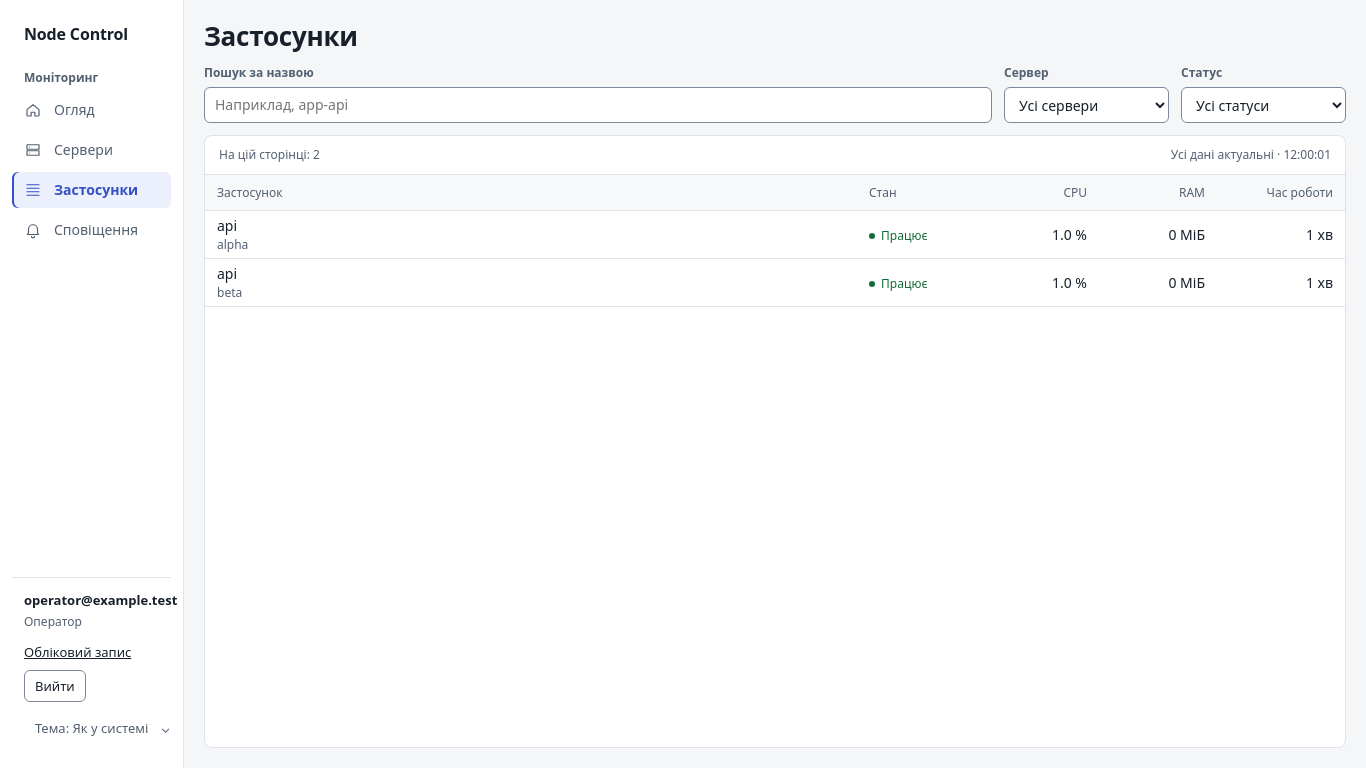
Scenario: workspace: list and details side by side (≥1280 px) › history: no confirmed target → explained, nothing requested; empty history is its own message
The image size is (1366, 768).
Click the button "api alpha Працює 1.0 % 0 МіБ 1 хв" at (233, 244), box [205,211,1345,258]
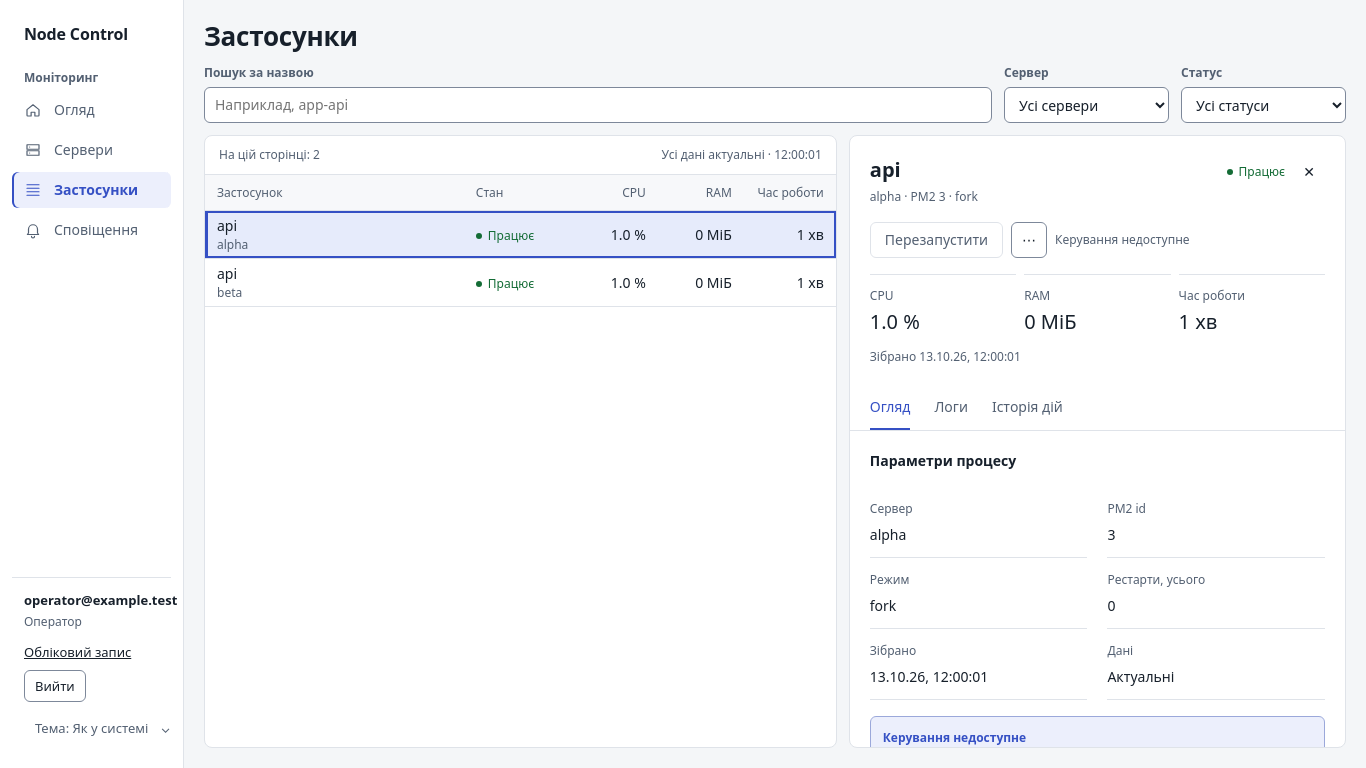
Click the tab "Історія дій" at (1027, 408), box [992,386,1063,430]
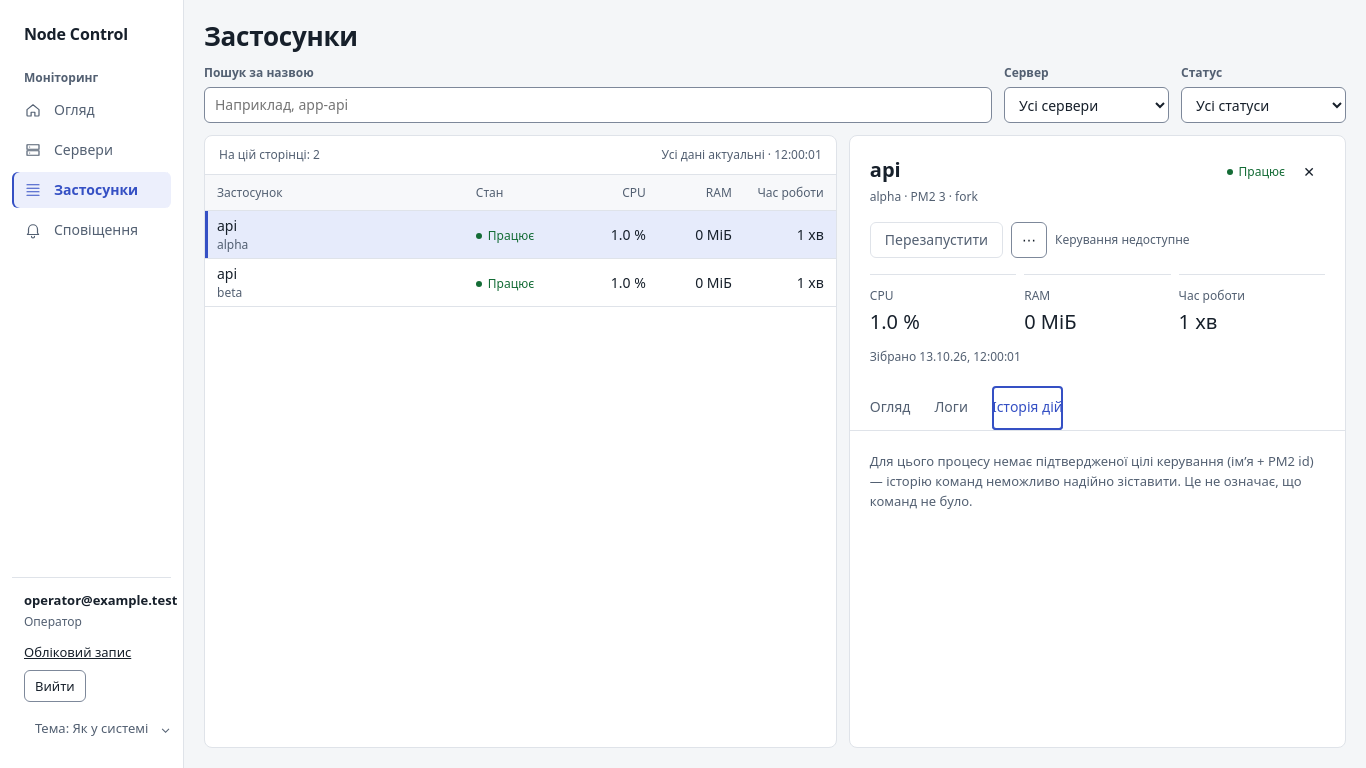
Click the button "api beta Працює 1.0 % 0 МіБ 1 хв" at (520, 282), box [205,259,836,306]
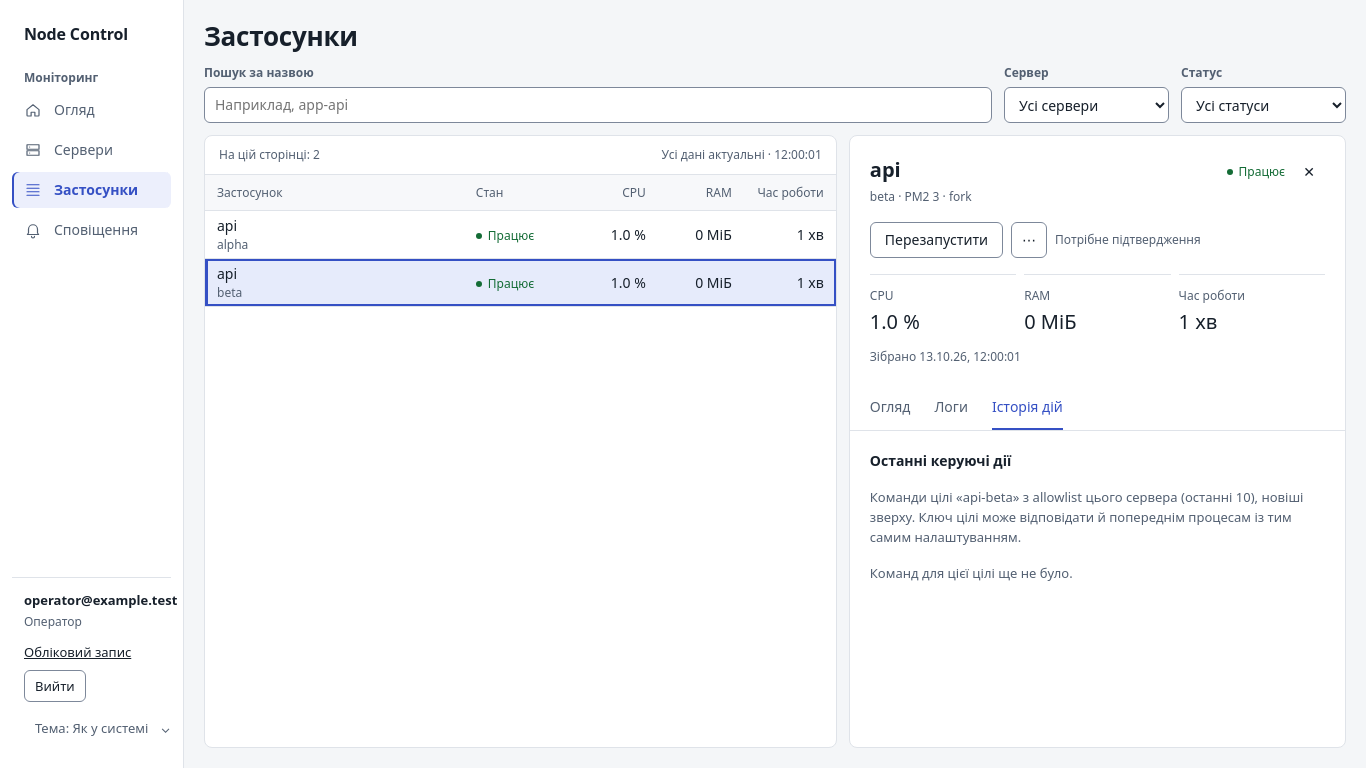
Expected: the text "Команд для цієї цілі ще не було." is shown, [870,564,1073,582]
